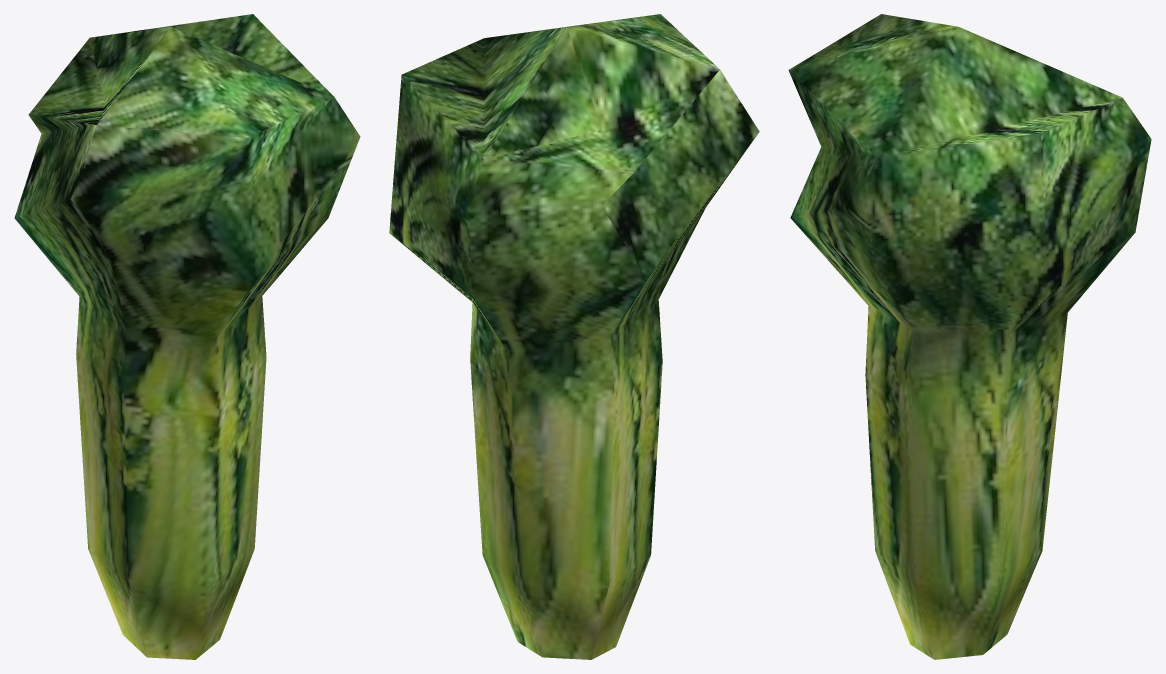
File: Celery.glb
3 views of the same model, side by side, from view 1: azimuth 30°, elevation 25°; view 2: azimuth 150°, elevation 25°; view 3: azimuth 270°, elevation 25° (orthographic).
Visible parts, largest first — view 1: Celery; view 2: Celery; view 3: Celery.
Boxes of the visible parts, x1,y1,x2,y2 form: Celery: (14, 14, 360, 659); Celery: (389, 14, 759, 659); Celery: (788, 14, 1151, 659).
Bounding box in the file's own units: 0.2668 × 0.5484 × 0.2922.
1 material, 1 textured.
